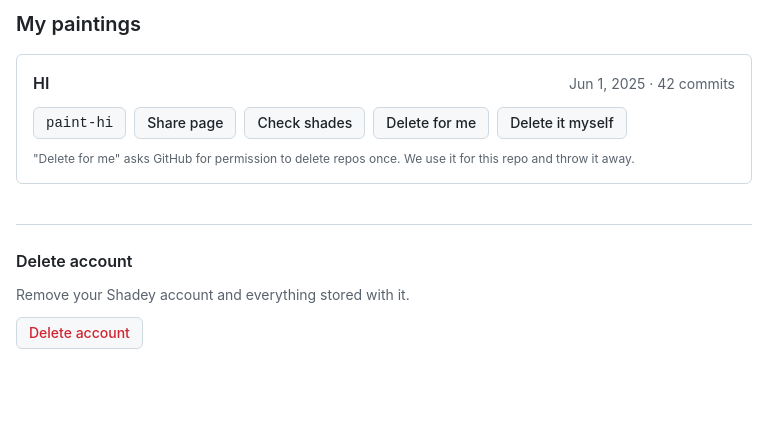
Test: MyPaintingsPage › deletes the account after a confirmation
Step 1. Click the button "Delete account" → x=79, y=333, box top-left (16, 317), bottom-right (143, 349)
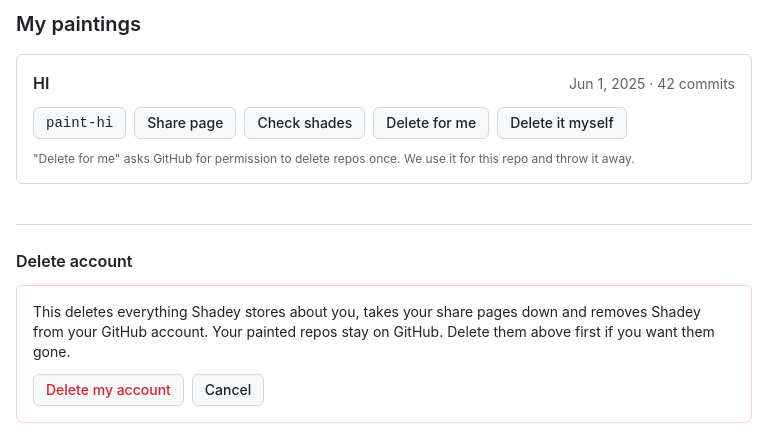
Step 2. Click the button "Delete my account" → x=108, y=390, box top-left (33, 374), bottom-right (184, 406)
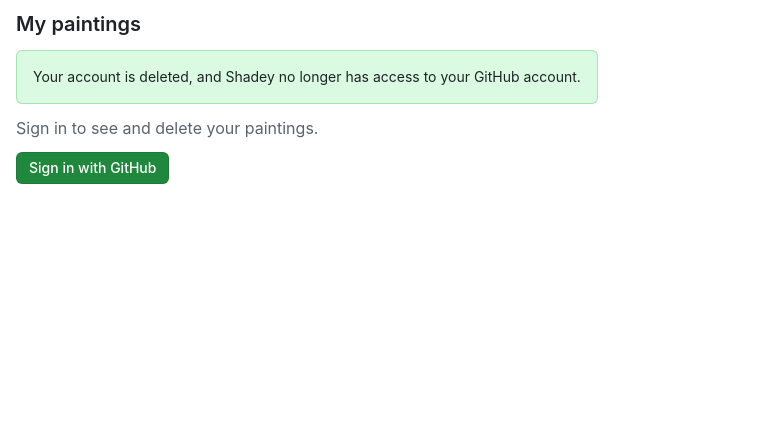
Check: the text "Your account is deleted" is shown, box top-left (33, 68), bottom-right (581, 85)
Check: the link "Sign in with GitHub" is shown, box top-left (16, 152), bottom-right (169, 184)
